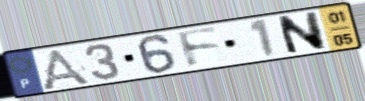1: (248, 17, 276, 60)
3: (83, 41, 122, 82)
6: (135, 33, 178, 75)
A: (39, 47, 95, 90)
F: (175, 26, 224, 70)
N: (274, 10, 328, 57)
